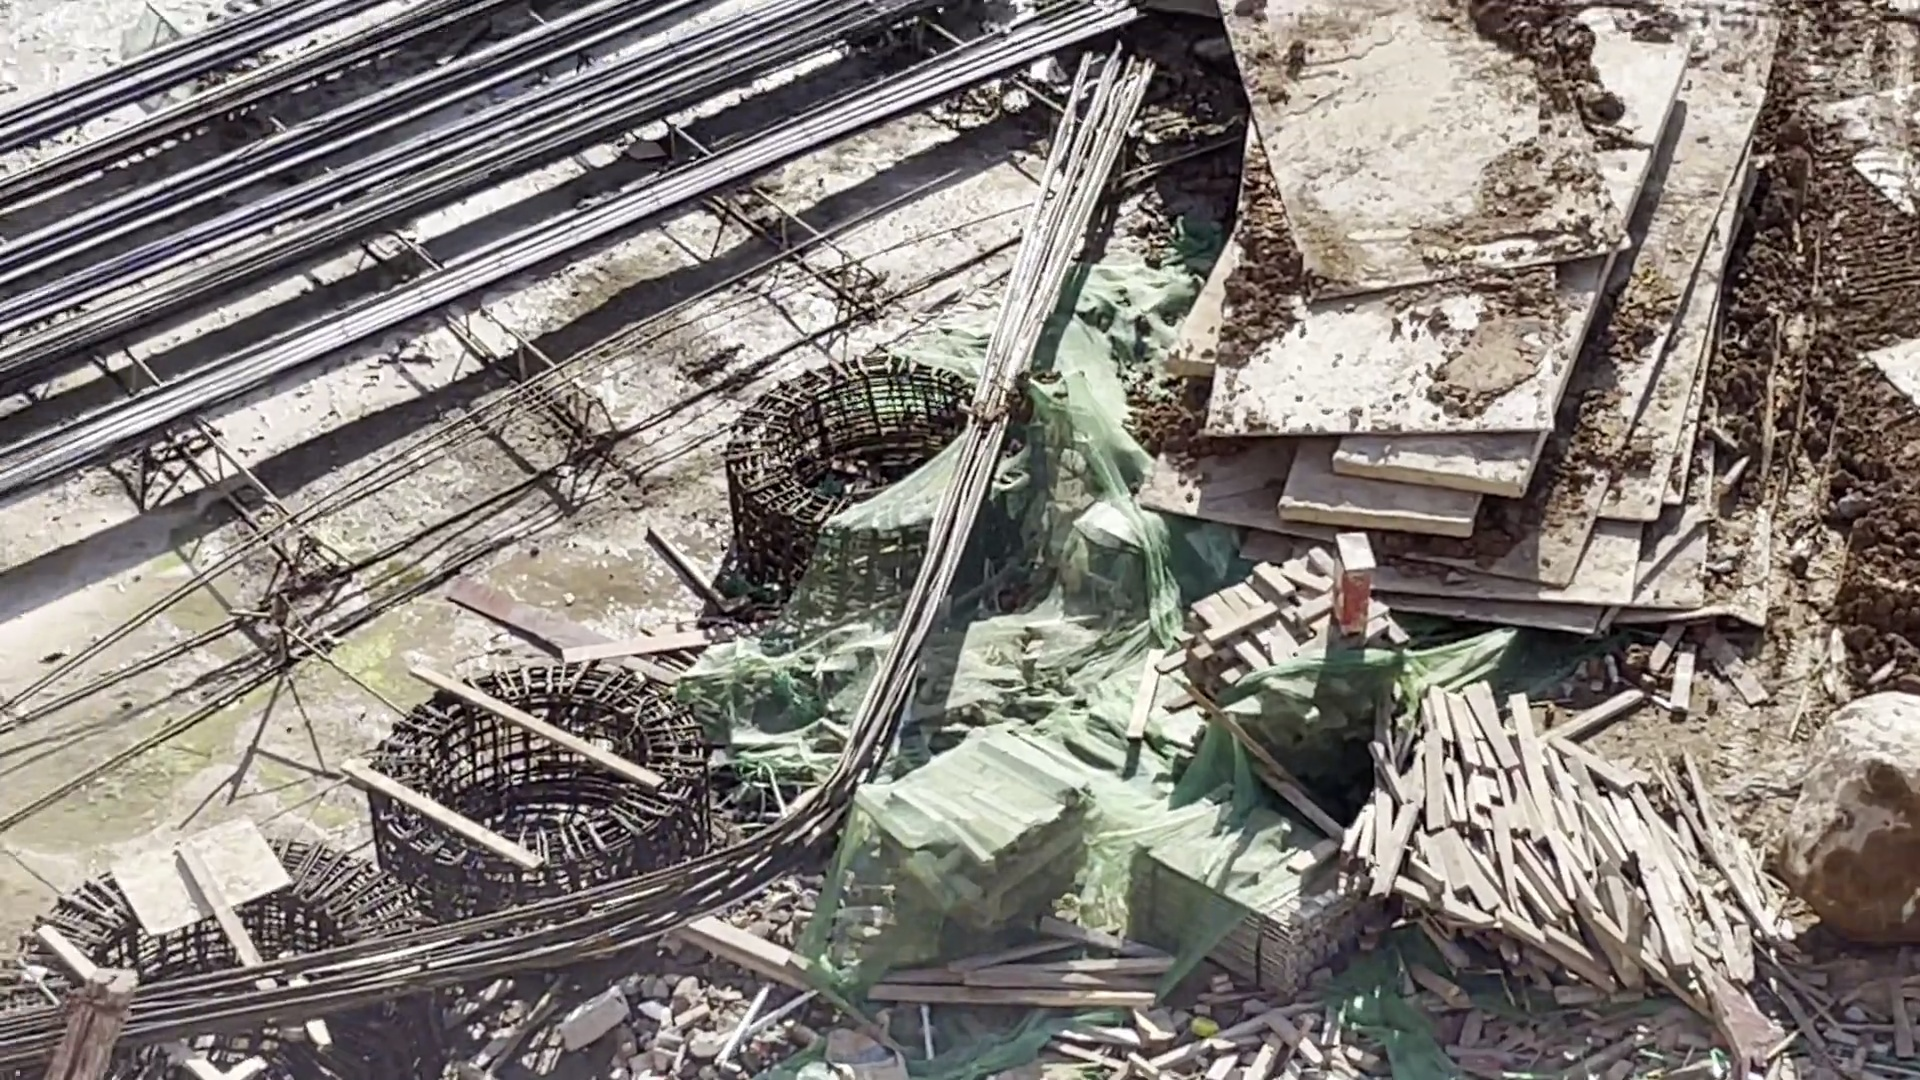board: (1176, 3, 1787, 642)
rebar: (1, 1, 1142, 425), (862, 46, 1172, 845), (26, 820, 814, 1079)
wood: (1346, 678, 1826, 1064), (1116, 816, 1364, 997), (877, 736, 1095, 942)
